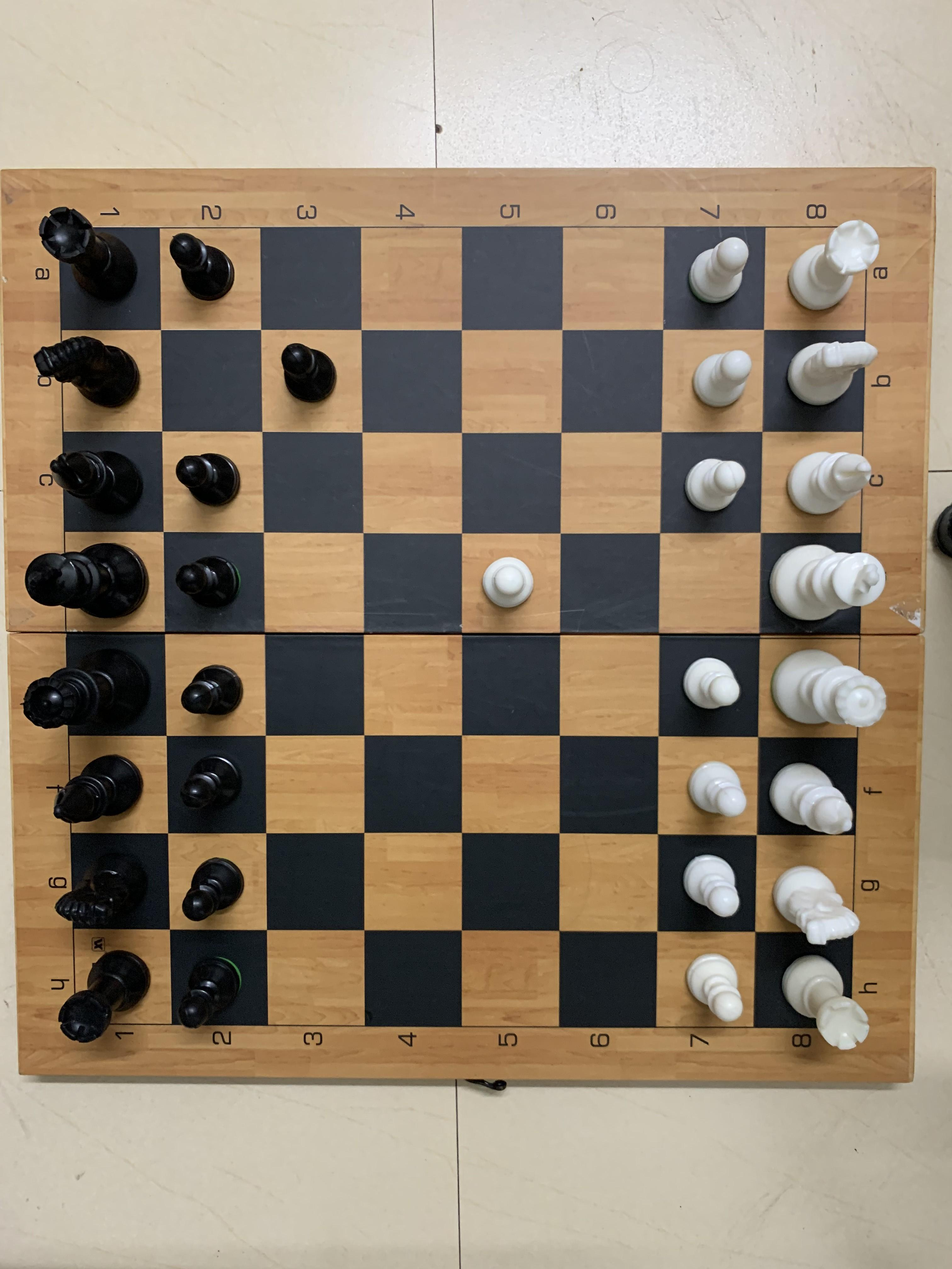black_bishop: (49, 745, 161, 838), (46, 435, 150, 521)
black_king: (20, 537, 152, 626)
black_knight: (27, 320, 138, 424), (46, 841, 164, 938)
black_pawn: (161, 222, 255, 317), (268, 328, 360, 420), (167, 430, 258, 521), (173, 940, 250, 1032), (178, 639, 255, 730), (179, 849, 252, 925), (175, 753, 249, 827), (173, 542, 249, 614)
black_queen: (16, 639, 161, 739)
black_rook: (33, 191, 139, 309), (52, 935, 150, 1052)
white_bishop: (768, 751, 886, 851), (776, 446, 880, 526)
white_king: (779, 529, 897, 642)
white_knight: (771, 336, 888, 425), (773, 852, 873, 948)
white_pawn: (677, 938, 761, 1032), (669, 756, 759, 842), (677, 233, 761, 322), (469, 545, 551, 628), (674, 444, 750, 528), (680, 336, 754, 420), (677, 646, 749, 728), (678, 850, 747, 930)
white_queen: (779, 644, 896, 739)
white_rook: (782, 216, 888, 325), (779, 943, 880, 1056)
